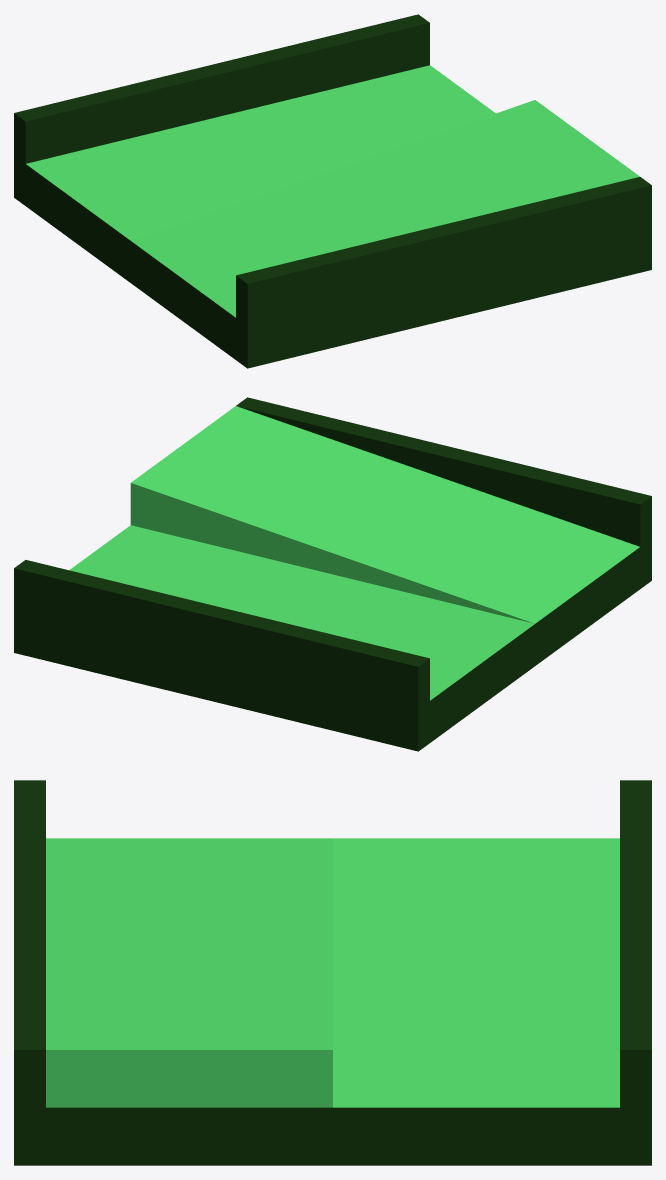
Rendered from MG 1 Sided Ramp.fbx.
3 renders of one model, top to bottom at view 1: azimuth 30°, elevation 25°; view 2: azimuth 150°, elevation 25°; view 3: azimuth 270°, elevation 25°, orthographic. The views are drawn at different scales.
Parts seen in each view (by area): view 1: MG 1 Sided Ramp; view 2: MG 1 Sided Ramp; view 3: MG 1 Sided Ramp.
Boxes of the visible parts, x1,y1,x2,y2 form: MG 1 Sided Ramp: [14, 14, 651, 368]; MG 1 Sided Ramp: [14, 397, 651, 751]; MG 1 Sided Ramp: [14, 780, 651, 1165].
Bounding box in the file's own units: 200 × 40 × 200.
